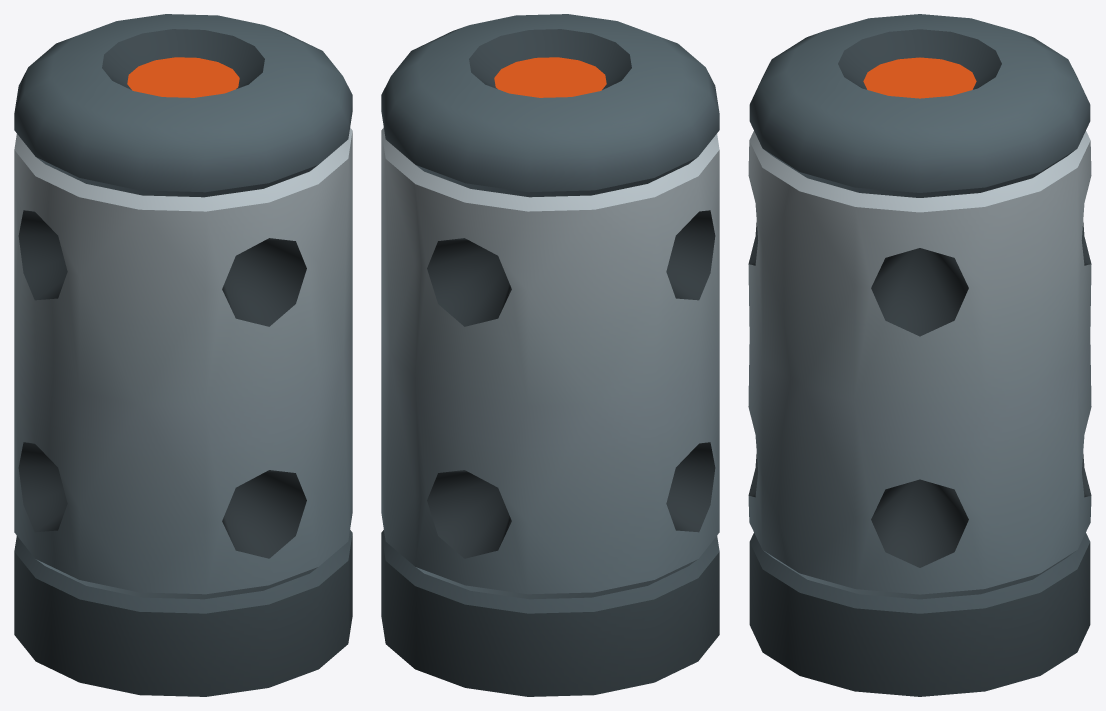
The model's file is obstacle_11_001.fbx.
3 renders of one model, left to right at view 1: azimuth 30°, elevation 25°; view 2: azimuth 150°, elevation 25°; view 3: azimuth 270°, elevation 25°, orthographic.
Visible parts, largest first — view 1: obstacle_11_001; view 2: obstacle_11_001; view 3: obstacle_11_001.
Part boxes in pixels (x1,y1,x2,y2): obstacle_11_001: (14,14,352,696); obstacle_11_001: (381,14,719,696); obstacle_11_001: (748,14,1091,696).
Size of the model in its own units: 171 by 171 by 308.
